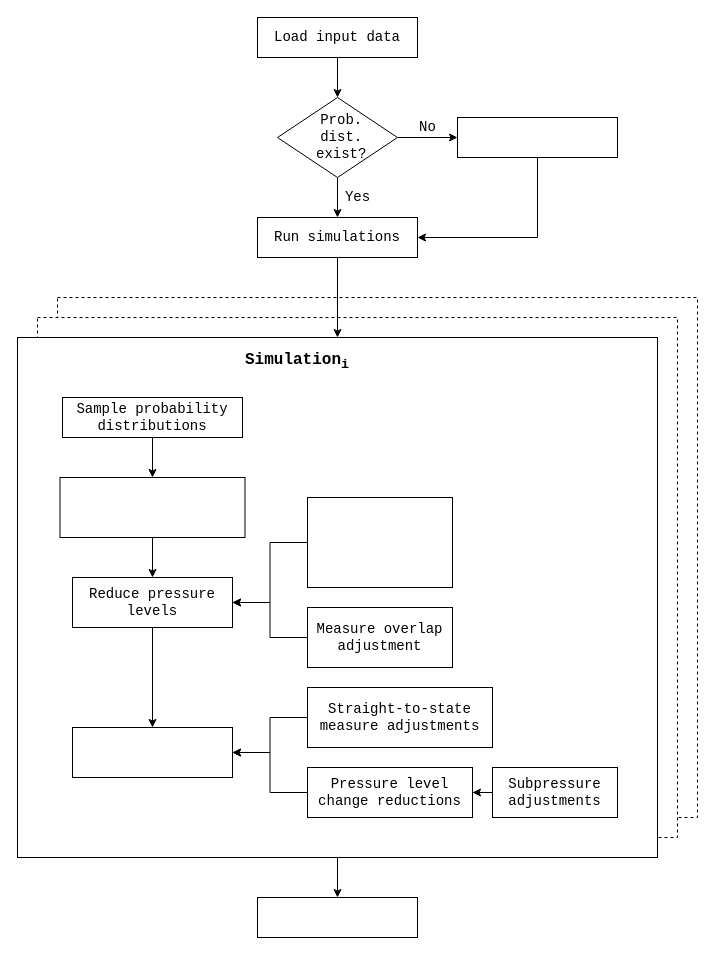
The diagram is 715 pixels wide and 955 high, and some of its shapes have lost their labels. The shapes that lost their labels are listed below. From the top down, each one's centre as x and y in pixels, then its label:
[537,137]: Create PERT distributions
[152,507]: Activity development scenario adjustment
[379,542]: Coverage and implementation adjustments on measures
[152,752]: Reduce TPL levels
[337,917]: Calculate means and errors
